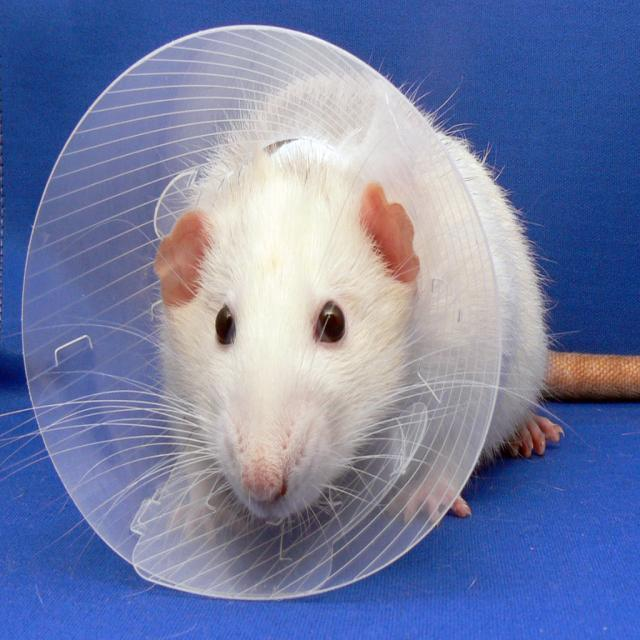rat: (149, 117, 640, 527)
